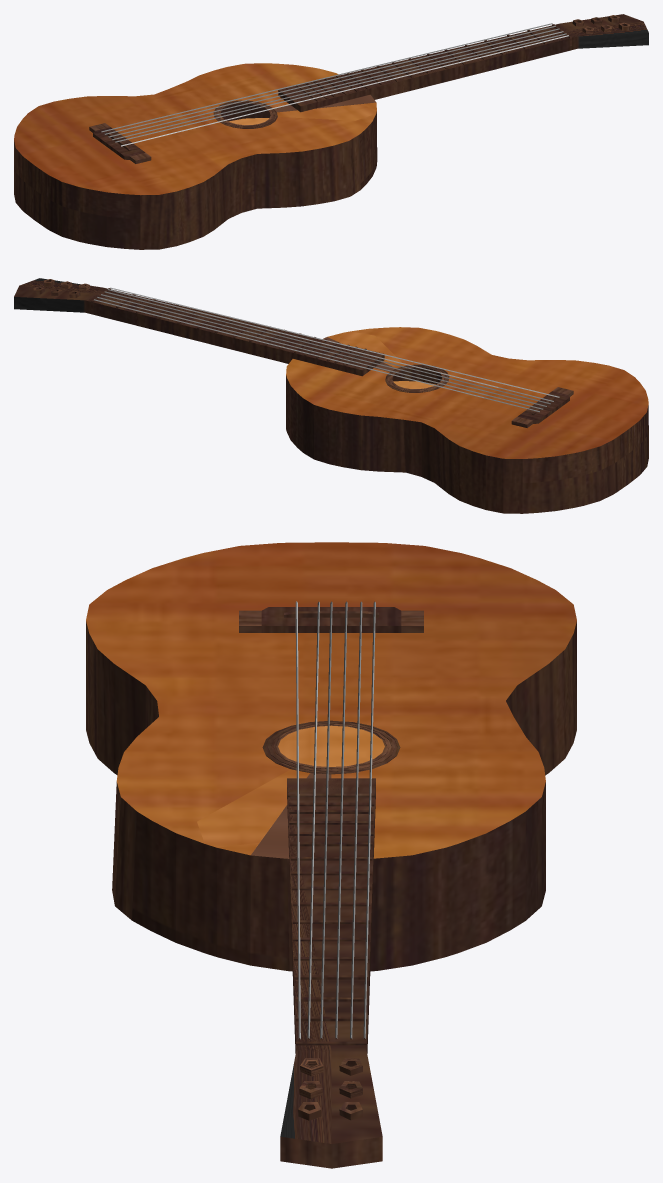
Rendered from guitar02.fbx.
3 renders of one model, top to bottom at view 1: azimuth 30°, elevation 25°; view 2: azimuth 150°, elevation 25°; view 3: azimuth 270°, elevation 25°, orthographic. The views are drawn at different scales.
Parts seen in each view (by area): view 1: polySurface63; view 2: polySurface63; view 3: polySurface63.
Boxes of the visible parts, x1,y1,x2,y2 form: polySurface63: (14,14,648,249); polySurface63: (14,278,648,513); polySurface63: (86,542,576,1168).
Bounding box in the file's own units: 32.68 × 3.25 × 11.42.
